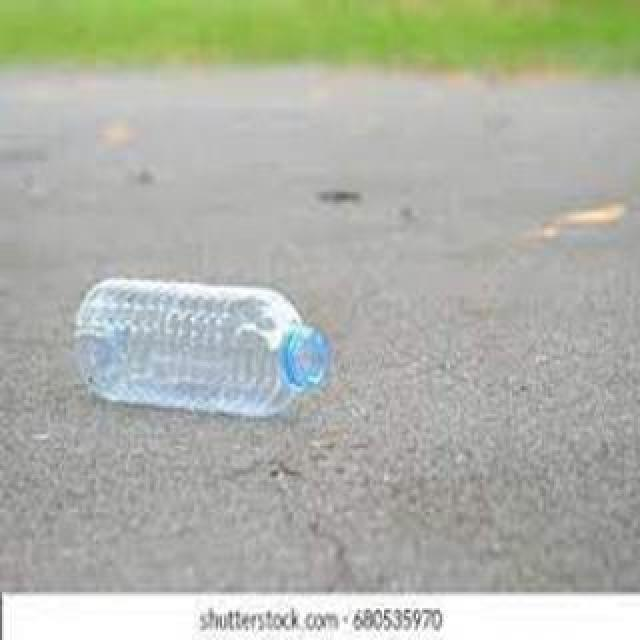Pet_Bottle: (72, 272, 332, 428)
